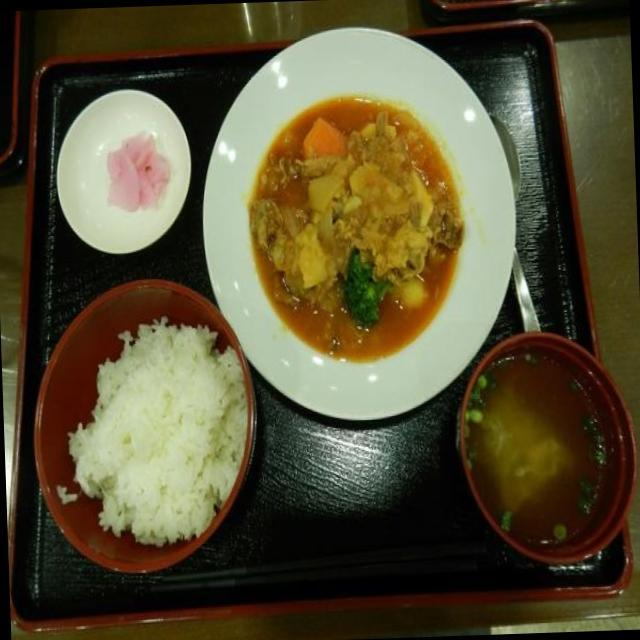Rice: (64, 312, 250, 540)
